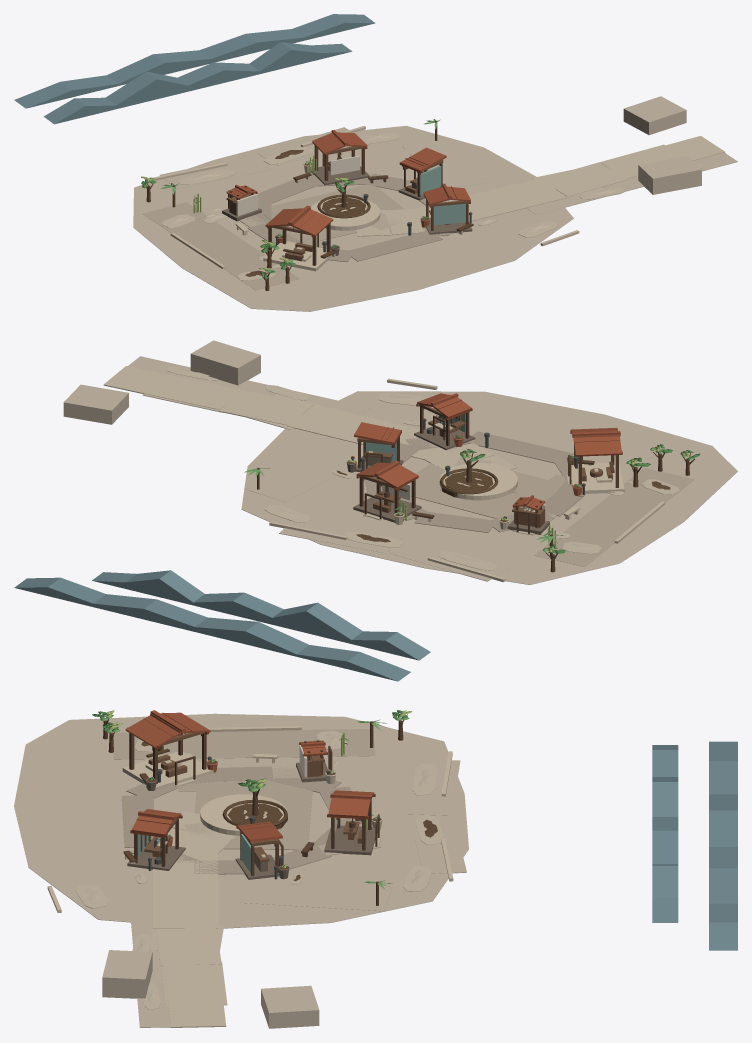
File: cho-neo.glb
3 views of the same model, one above another, from view 1: azimuth 30°, elevation 25°; view 2: azimuth 150°, elevation 25°; view 3: azimuth 270°, elevation 25° (orthographic). The views are drawn at different scales.
Visible parts, largest first — view 1: ENV_SITE_SUBSTRATE, ENV_COASTAL_HORIZON_FAR, ENV_COASTAL_HORIZON_NEAR, ENV_PERIMETER_GROUND_01, ENV_PATH_MAIN_03, ENV_PATH_MAIN_CONTINUATION_02, ENV_FUTURE_PHO_CHO_MASS_01, ENV_PERIMETER_GROUND_04, ENV_FUTURE_PHO_CHO_MASS_02, ENV_PATH_MAIN_CONTINUATION_01, ENV_PLAZA_MAIN_01, ENV_PERIMETER_GROUND_05 (+12 smaller); view 2: ENV_SITE_SUBSTRATE, ENV_COASTAL_HORIZON_FAR, ENV_COASTAL_HORIZON_NEAR, ENV_PERIMETER_GROUND_01, ENV_PATH_MAIN_CONTINUATION_02, ENV_PERIMETER_GROUND_04, ENV_PLAZA_MAIN_01, ENV_PATH_MAIN_03, ENV_FUTURE_PHO_CHO_MASS_01, ENV_FUTURE_PHO_CHO_MASS_02, ENV_PATH_MAIN_CONTINUATION_01, ENV_PERIMETER_GROUND_05 (+13 smaller); view 3: ENV_SITE_SUBSTRATE, ENV_COASTAL_HORIZON_FAR, ENV_PERIMETER_GROUND_01, ENV_COASTAL_HORIZON_NEAR, ENV_PATH_MAIN_03, ENV_PERIMETER_GROUND_04, ENV_PATH_MAIN_CONTINUATION_02, ENV_PLAZA_MAIN_01, ENV_PATH_MAIN_CONTINUATION_01, ENV_FUTURE_PHO_CHO_MASS_01, ENV_FUTURE_PHO_CHO_MASS_02, ENV_PERIMETER_GROUND_05 (+20 smaller).
Boxes of the visible parts, <box> form: ENV_SITE_SUBSTRATE: <box>133,125,573,311</box>; ENV_COASTAL_HORIZON_FAR: <box>14,14,375,108</box>; ENV_COASTAL_HORIZON_NEAR: <box>43,42,352,124</box>; ENV_PERIMETER_GROUND_01: <box>142,202,299,290</box>; ENV_PATH_MAIN_03: <box>409,178,566,221</box>; ENV_PATH_MAIN_CONTINUATION_02: <box>601,136,725,178</box>; ENV_FUTURE_PHO_CHO_MASS_01: <box>638,156,701,194</box>; ENV_PERIMETER_GROUND_04: <box>399,136,487,187</box>; ENV_FUTURE_PHO_CHO_MASS_02: <box>623,96,686,135</box>; ENV_PATH_MAIN_CONTINUATION_01: <box>540,162,626,196</box>; ENV_PLAZA_MAIN_01: <box>271,184,404,242</box>; ENV_PERIMETER_GROUND_05: <box>526,152,737,214</box>; ENV_SITE_SUBSTRATE: <box>241,391,737,584</box>; ENV_COASTAL_HORIZON_FAR: <box>14,577,410,681</box>; ENV_COASTAL_HORIZON_NEAR: <box>92,570,430,660</box>; ENV_PERIMETER_GROUND_01: <box>534,468,694,566</box>; ENV_PATH_MAIN_CONTINUATION_02: <box>103,366,241,409</box>; ENV_PERIMETER_GROUND_04: <box>244,445,357,502</box>; ENV_PLAZA_MAIN_01: <box>408,463,558,518</box>; ENV_PATH_MAIN_03: <box>287,404,451,459</box>; ENV_FUTURE_PHO_CHO_MASS_01: <box>190,340,260,385</box>; ENV_FUTURE_PHO_CHO_MASS_02: <box>63,384,128,424</box>; ENV_PATH_MAIN_CONTINUATION_01: <box>219,390,313,425</box>; ENV_PERIMETER_GROUND_05: <box>128,356,370,415</box>; ENV_SITE_SUBSTRATE: <box>14,713,468,928</box>; ENV_COASTAL_HORIZON_FAR: <box>709,741,737,950</box>; ENV_PERIMETER_GROUND_01: <box>113,729,375,759</box>; ENV_COASTAL_HORIZON_NEAR: <box>652,745,678,922</box>; ENV_PATH_MAIN_03: <box>153,848,218,928</box>; ENV_PERIMETER_GROUND_04: <box>240,879,392,911</box>; ENV_PATH_MAIN_CONTINUATION_02: <box>164,964,226,1027</box>; ENV_PLAZA_MAIN_01: <box>194,785,312,850</box>; ENV_PATH_MAIN_CONTINUATION_01: <box>155,928,221,966</box>; ENV_FUTURE_PHO_CHO_MASS_01: <box>102,950,152,998</box>; ENV_FUTURE_PHO_CHO_MASS_02: <box>261,985,319,1028</box>; ENV_PERIMETER_GROUND_05: <box>129,904,170,1027</box>.
Size of the model in its own units: 51.22 by 4.48 by 49.8.
